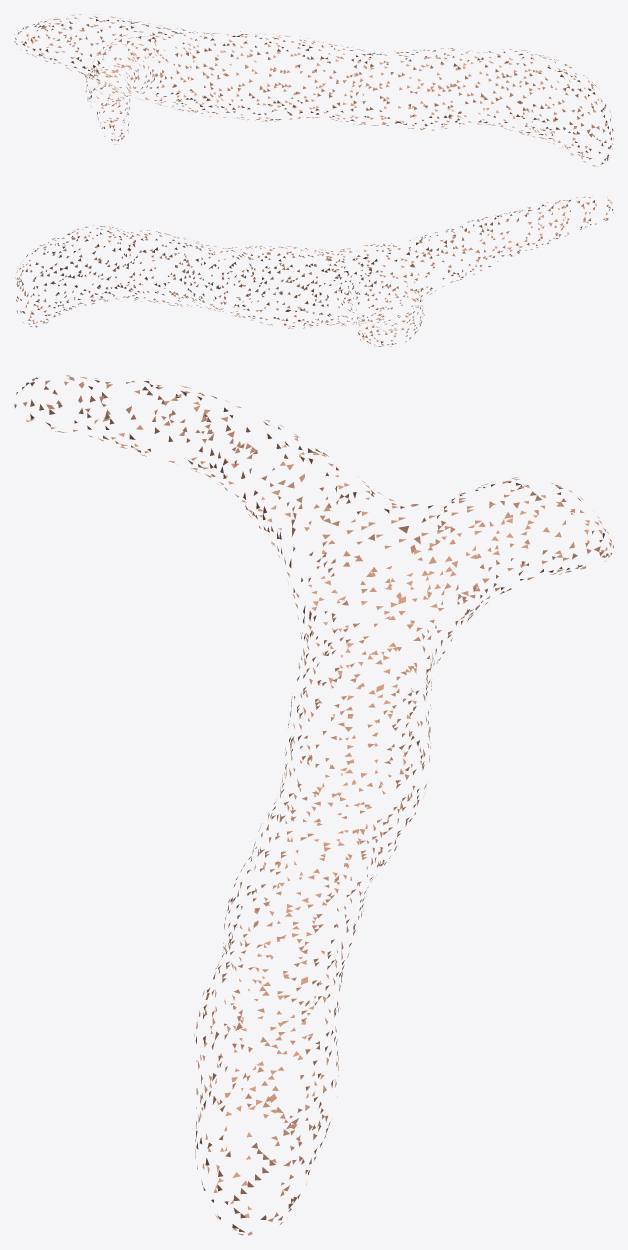
Rendered from morph_004.glb.
3 renders of one model, top to bottom at view 1: azimuth 30°, elevation 25°; view 2: azimuth 150°, elevation 25°; view 3: azimuth 270°, elevation 25°, orthographic. The views are drawn at different scales.
Size of the model in its own units: 113 by 44.72 by 59.38.
